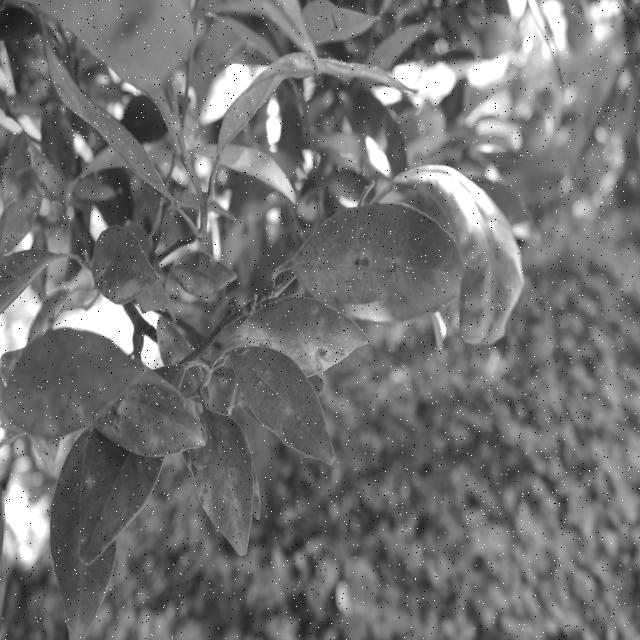canker: (185, 429, 258, 540), (240, 314, 358, 376), (329, 239, 436, 291), (98, 392, 189, 449), (181, 250, 225, 298)
